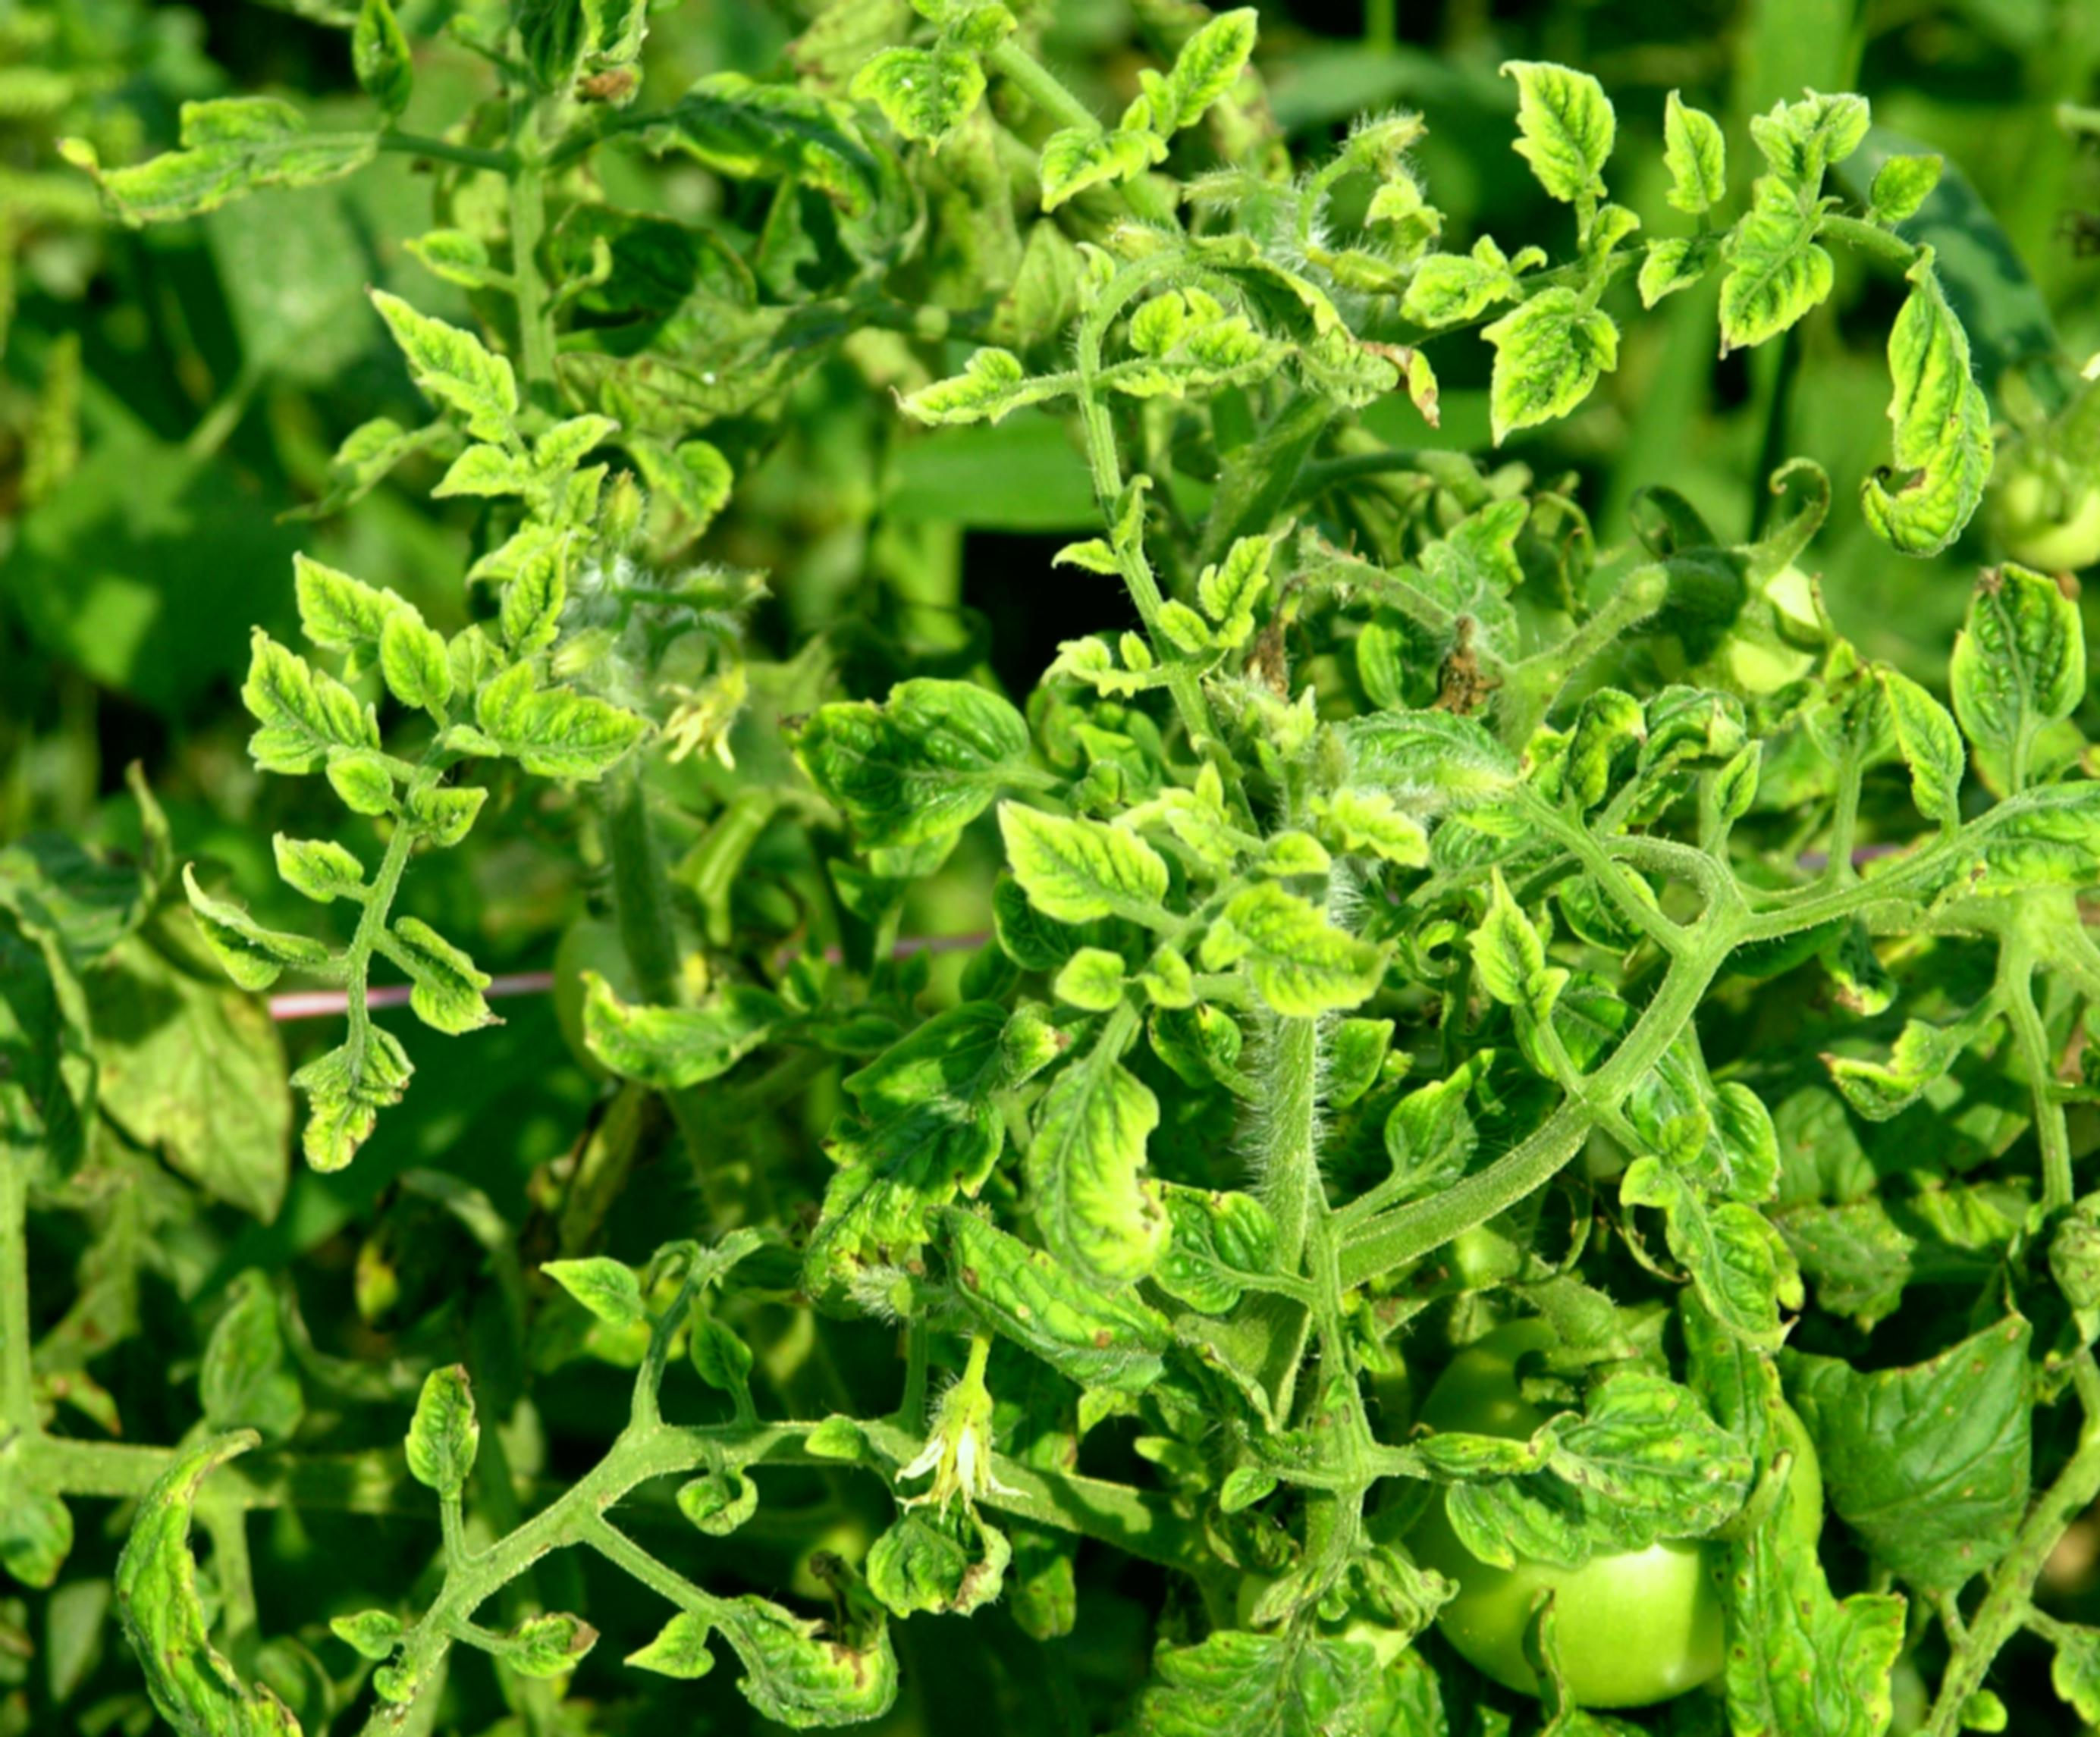Tomato leaf yellow virus: (1385, 1362, 1852, 1597), (45, 1481, 330, 1737), (738, 668, 1053, 877), (1120, 834, 1416, 1039), (916, 1184, 1167, 1413), (1718, 1488, 1945, 1737), (1636, 1125, 1828, 1418), (1854, 267, 2002, 577), (680, 1559, 921, 1737), (1692, 143, 1868, 384), (225, 635, 413, 860), (973, 760, 1183, 947), (1019, 1055, 1177, 1291), (1455, 269, 1626, 483), (1941, 562, 2091, 785), (1488, 23, 1650, 215), (277, 1017, 450, 1195), (359, 279, 548, 438), (815, 30, 992, 167), (1074, 279, 1292, 389), (874, 338, 1041, 467), (288, 551, 429, 663), (1026, 117, 1144, 239)
